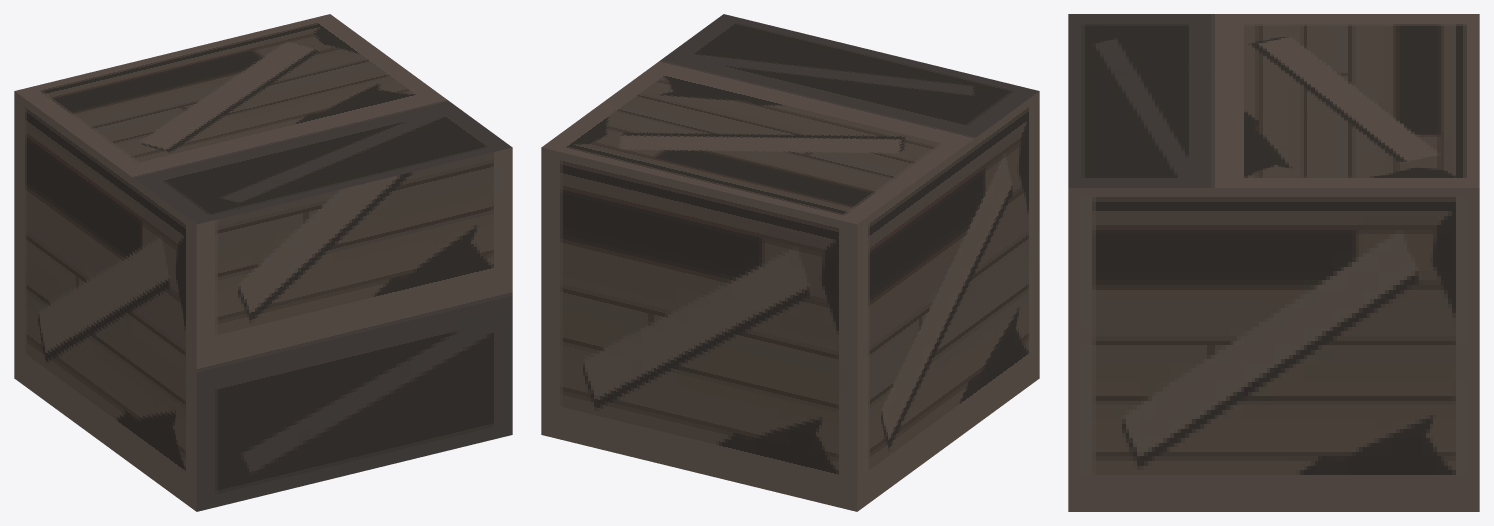
File: Building_AncientWoodenCrate.glb
3 views of the same model, side by side, from view 1: azimuth 30°, elevation 25°; view 2: azimuth 150°, elevation 25°; view 3: azimuth 270°, elevation 25° (orthographic). The views are drawn at different scales.
Visible parts, largest first — view 1: AncientWoodenCrate; view 2: AncientWoodenCrate; view 3: AncientWoodenCrate.
Boxes of the visible parts, bbox=[...] form: AncientWoodenCrate: bbox=[14, 14, 512, 511]; AncientWoodenCrate: bbox=[541, 14, 1039, 511]; AncientWoodenCrate: bbox=[1068, 14, 1479, 511].
Size of the model in its own units: 0.92 by 0.8 by 0.92.
Materials: 1 (1 with a texture image).
